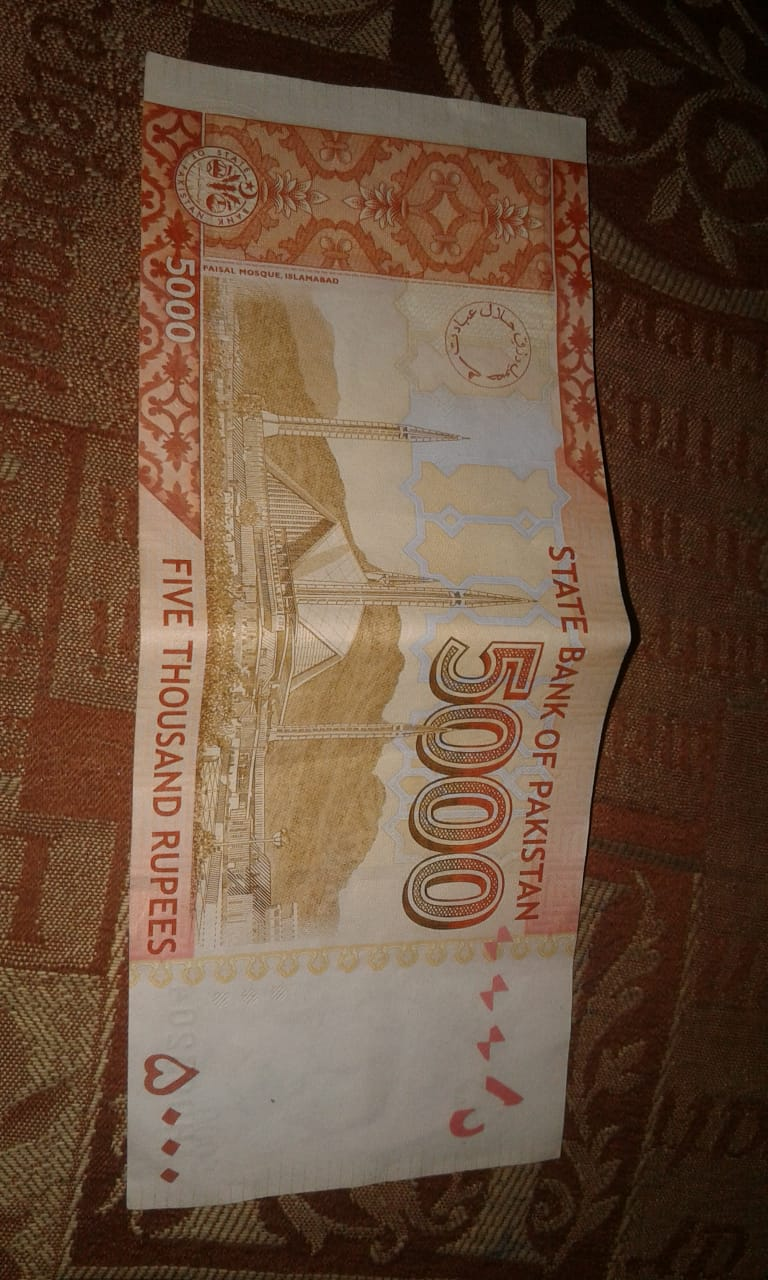5000 rupee: (106, 46, 640, 1247)
